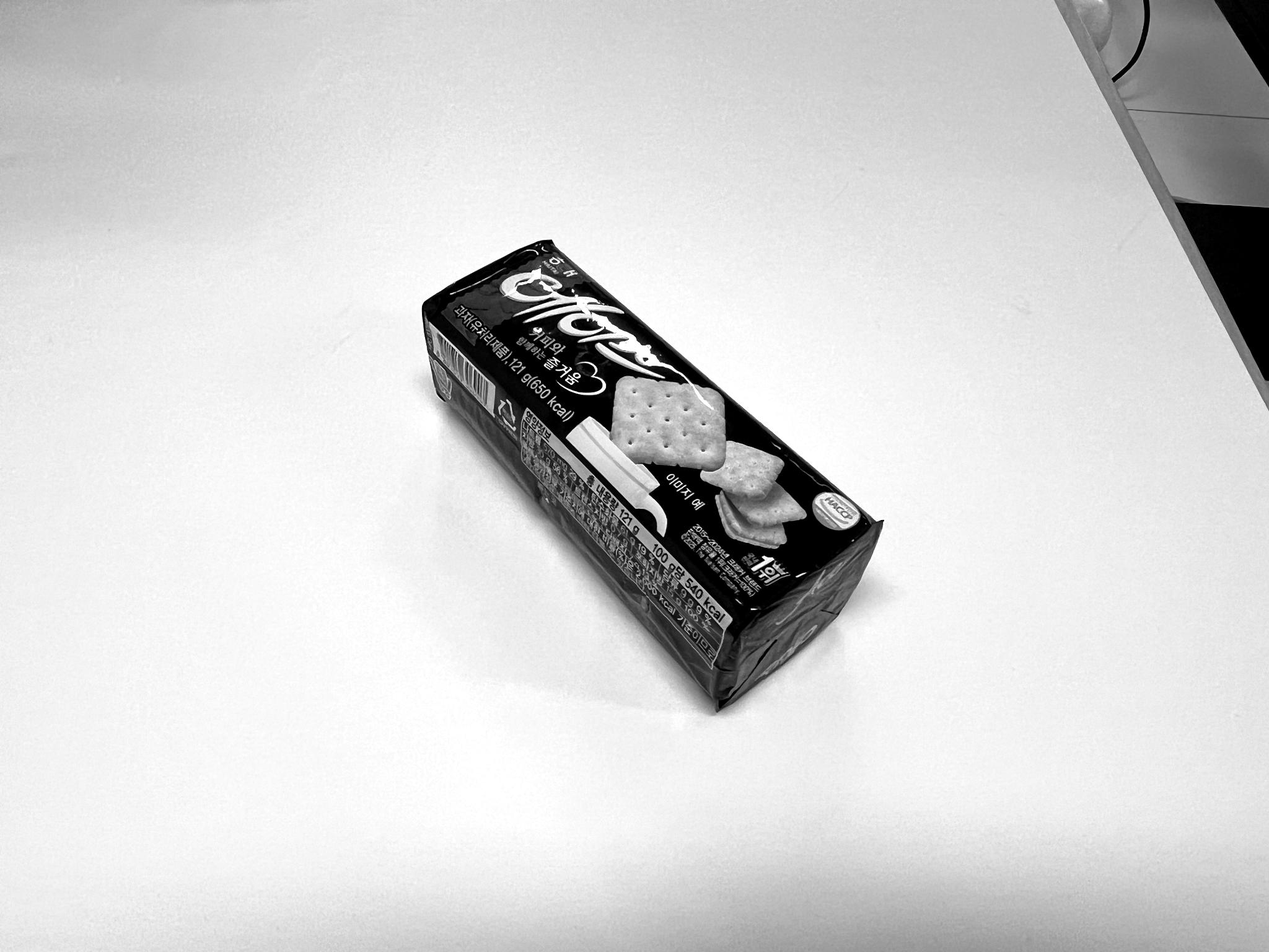cracker_ace: (414, 236, 886, 713)
